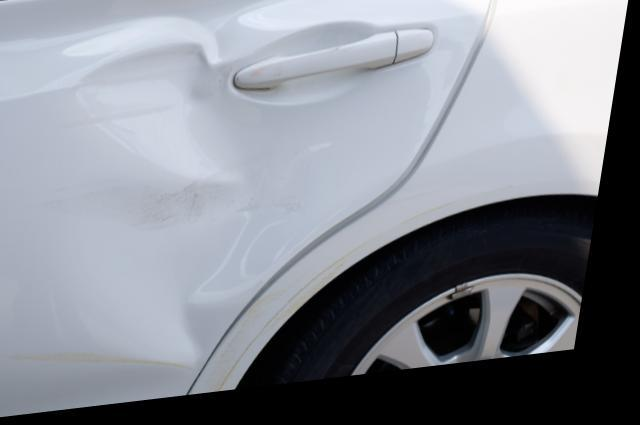dent: (71, 0, 319, 379)
